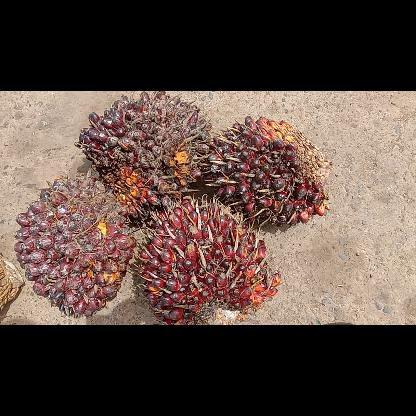Kurang masak: (132, 191, 284, 323), (73, 92, 211, 220)
TBS mentah: (11, 173, 137, 317), (201, 113, 331, 228)
